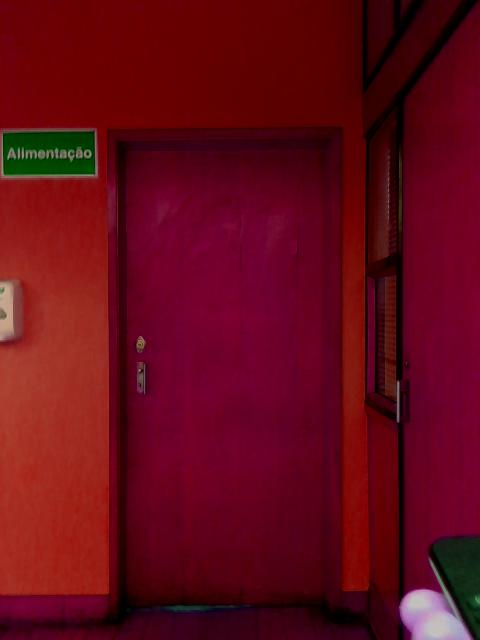closed_door: (107, 126, 342, 614)
